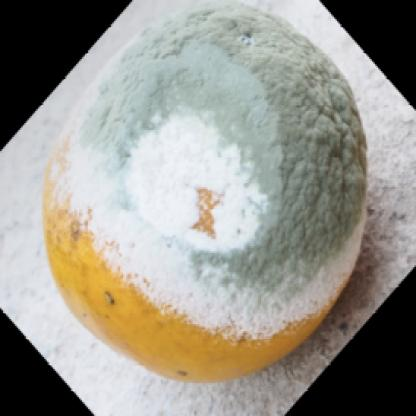rotten: (46, 5, 367, 381)
